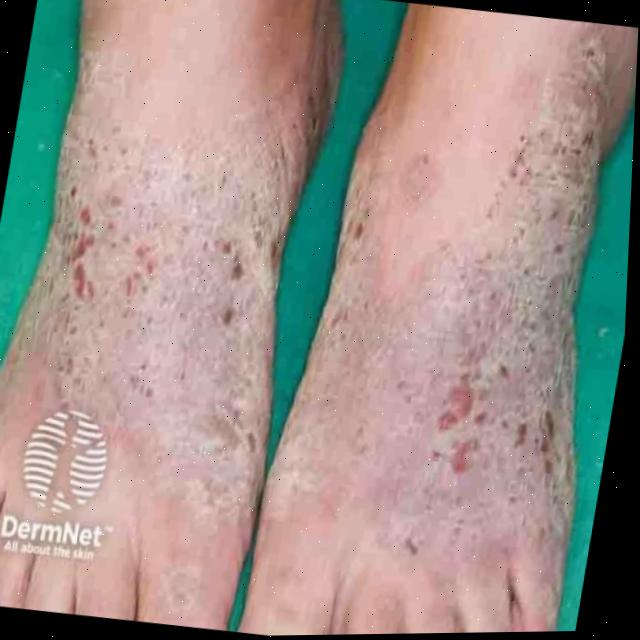Eczema: (325, 58, 586, 490), (38, 147, 268, 414)
